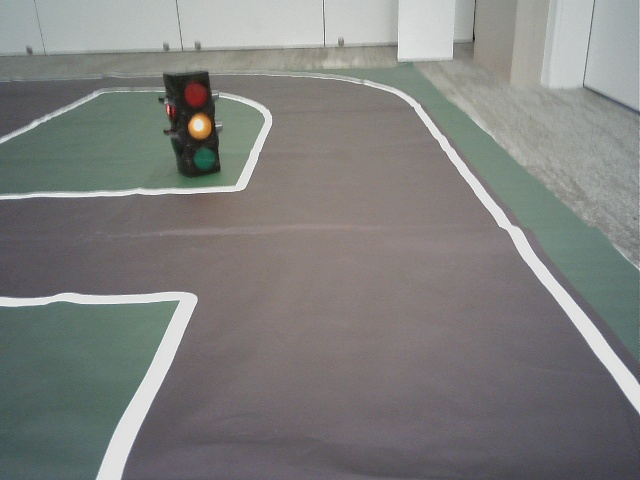yellow: (176, 77, 219, 169)
